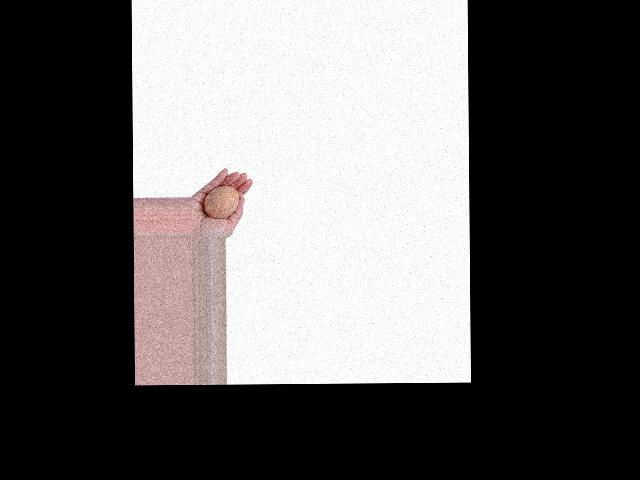egg: (204, 185, 238, 218)
